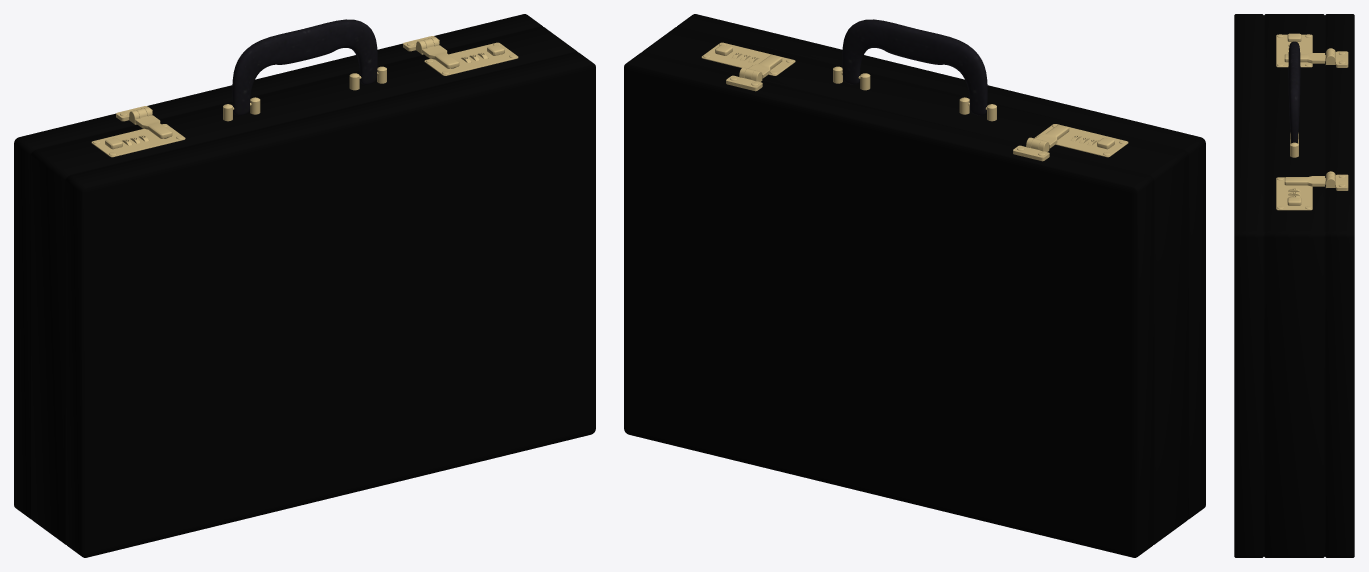
The model's file is Briefcase.fbx.
The picture shows the model from 3 angles, left to right: view 1: azimuth 30°, elevation 25°; view 2: azimuth 150°, elevation 25°; view 3: azimuth 270°, elevation 25°; orthographic projection. The views are drawn at different scales.
Visible parts, largest first — view 1: Cube, Cube.001, Cube.003, Cube.002, Cylinder; view 2: Cube, Cube.001, Cube.003, Cube.005, Cube.002, Cylinder; view 3: Cube, Cube.003, Cube.001, Cube.002, Cube.005, Cube.004.
Part boxes in pixels (x1,y1,x2,y2): Cube: [14, 14, 595, 557]; Cube.001: [232, 19, 377, 115]; Cube.003: [91, 42, 518, 157]; Cube.002: [135, 38, 459, 138]; Cylinder: [223, 66, 386, 121]; Cube: [624, 14, 1205, 557]; Cube.001: [842, 19, 987, 115]; Cube.003: [701, 42, 1128, 157]; Cube.005: [726, 67, 1049, 161]; Cube.002: [744, 55, 1069, 149]; Cylinder: [833, 66, 996, 121]; Cube: [1234, 14, 1354, 557]; Cube.003: [1276, 34, 1312, 210]; Cube.001: [1288, 41, 1300, 143]; Cube.002: [1284, 50, 1335, 186]; Cube.005: [1325, 48, 1348, 190]; Cube.004: [1287, 33, 1301, 205].
Size of the model in its own units: 489 by 402 by 113.
Materials: 2 (1 with a texture image).
